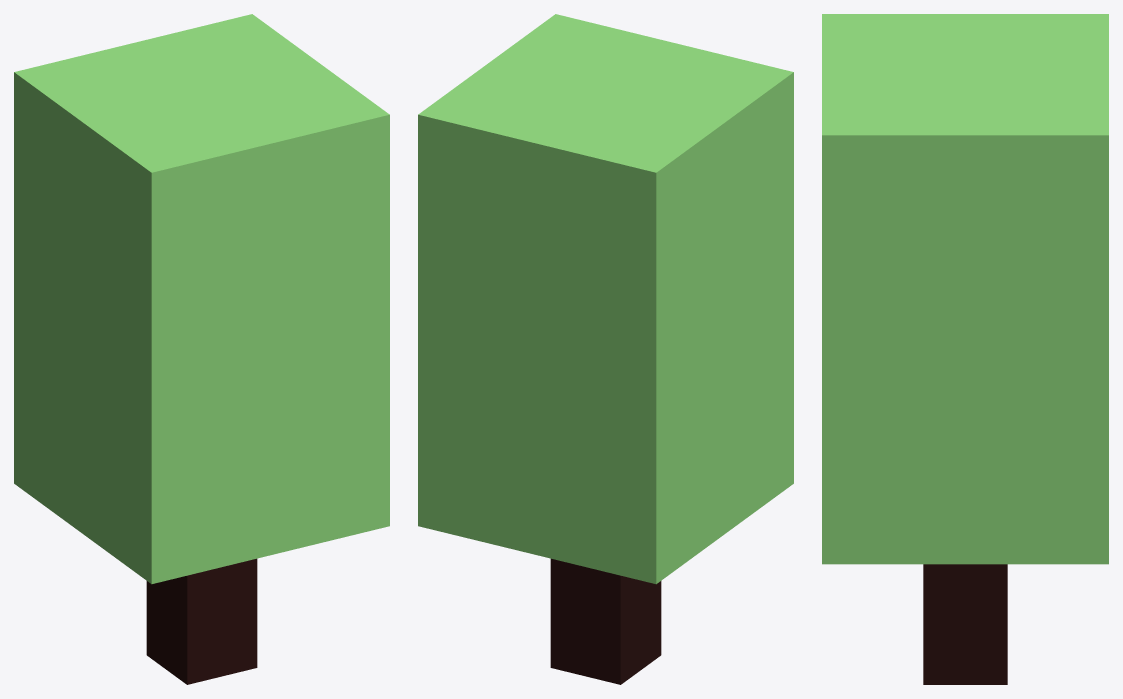
File: tree.fbx
3 renders of one model, left to right at view 1: azimuth 30°, elevation 25°; view 2: azimuth 150°, elevation 25°; view 3: azimuth 270°, elevation 25°, orthographic. The views are drawn at different scales.
Parts seen in each view (by area): view 1: Cube; view 2: Cube; view 3: Cube.
Boxes of the visible parts, bbox=[...] form: Cube: bbox=[14, 14, 389, 684]; Cube: bbox=[418, 14, 793, 684]; Cube: bbox=[822, 14, 1108, 684].
Bounding box in the file's own units: 204 × 465 × 204.
